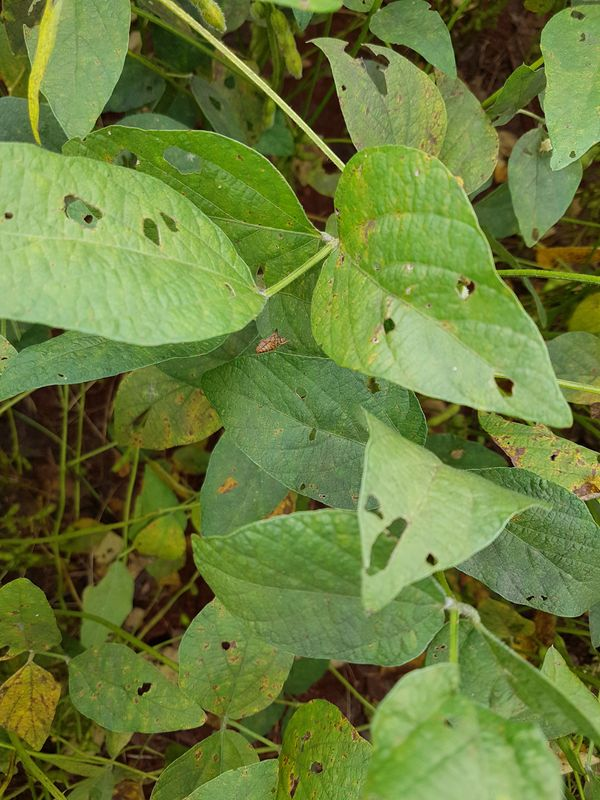Euschistus_heros_adulto: (251, 323, 294, 362)
